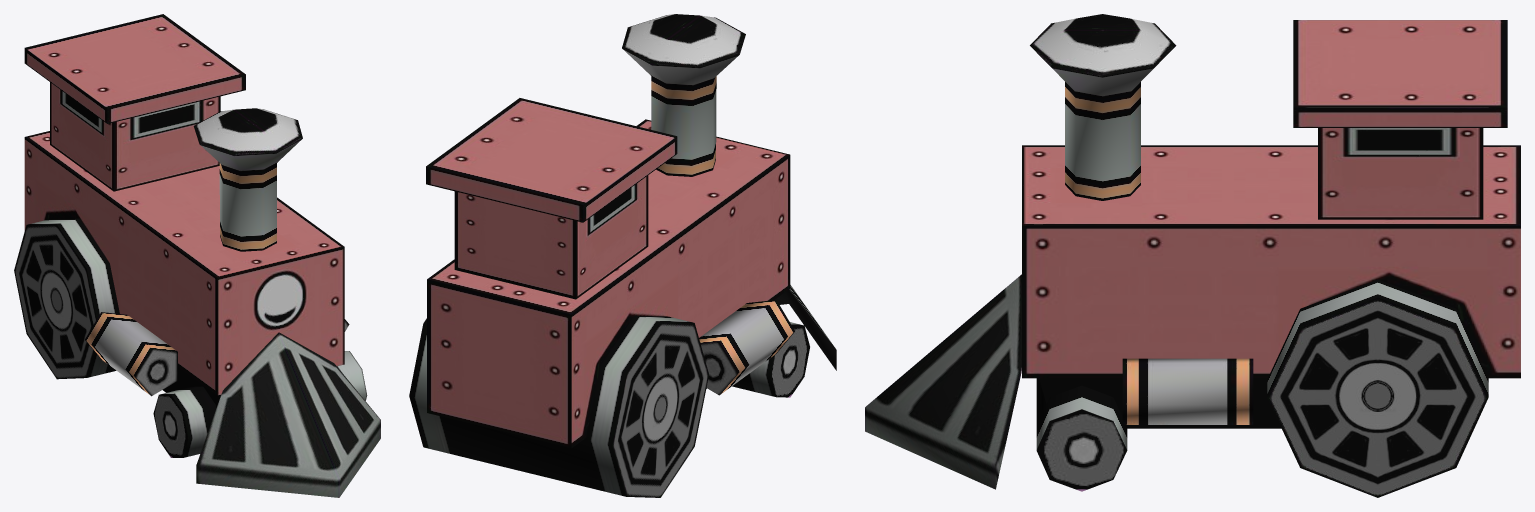
The model's file is 3dp_toytrain_hi.obj.
3 views of the same model, side by side, from view 1: azimuth 30°, elevation 25°; view 2: azimuth 150°, elevation 25°; view 3: azimuth 270°, elevation 25° (orthographic). The views are drawn at different scales.
Visible parts, largest first — view 1: 3dptoytrain; view 2: 3dptoytrain; view 3: 3dptoytrain.
Boxes of the visible parts, left/top/right/bottom form: 3dptoytrain: left=14, top=14, right=380, bottom=497; 3dptoytrain: left=409, top=14, right=836, bottom=497; 3dptoytrain: left=865, top=14, right=1520, bottom=497.
Size of the model in its own units: 12.79 by 18.01 by 26.17.
Materials: 1 (1 with a texture image).
